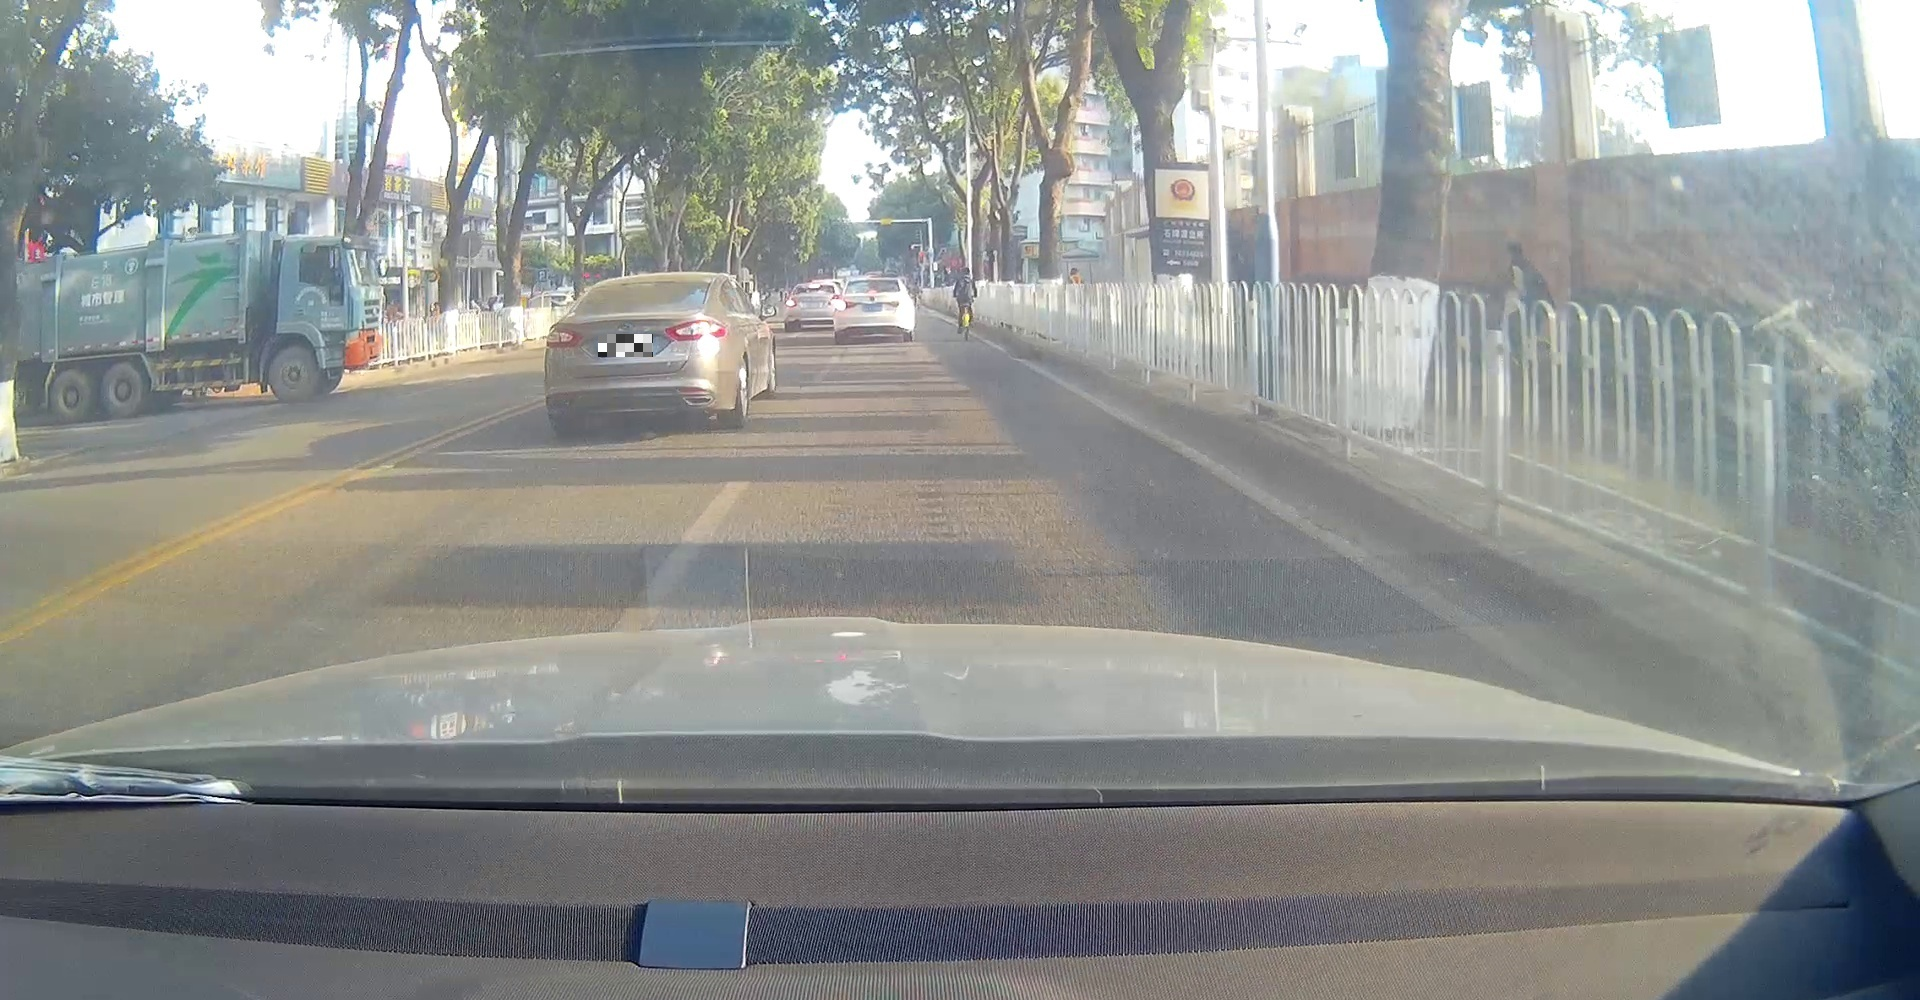L_light: (543, 325, 582, 348), (836, 299, 855, 310)
R_light: (664, 317, 728, 341), (888, 301, 902, 308)
T_light: (629, 284, 657, 289), (867, 280, 879, 284)
day-left: (833, 277, 914, 341)
day-no: (543, 272, 738, 430)
plate_1: (598, 334, 653, 357)
